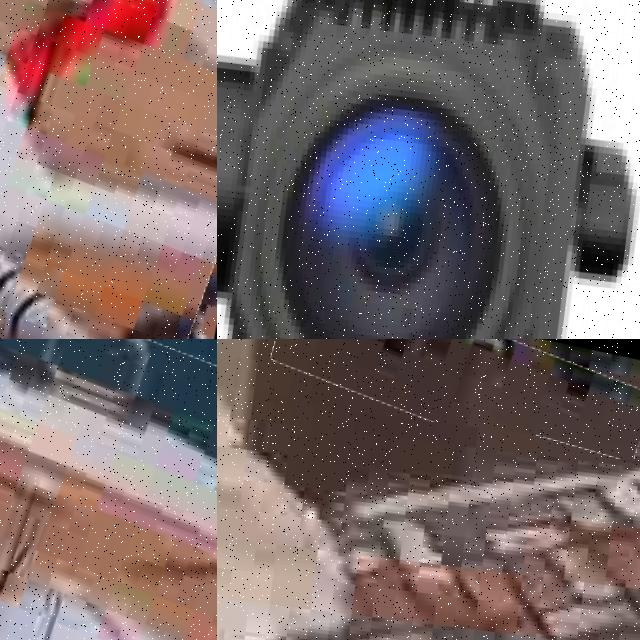drone: (0, 0, 217, 339), (0, 339, 217, 640), (267, 339, 640, 448)
